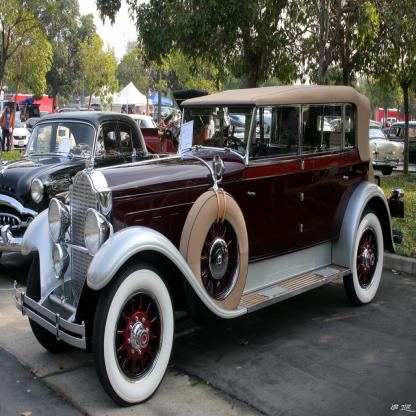Car: (0, 86, 416, 406)
